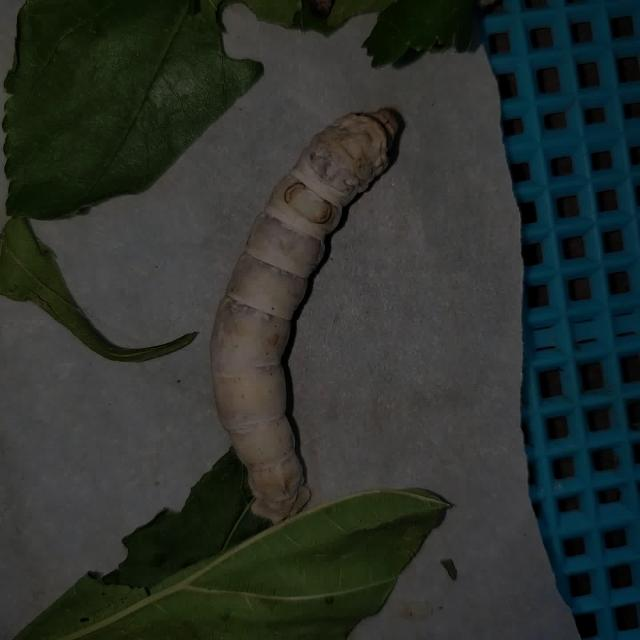Grasserie: (187, 84, 410, 536)
